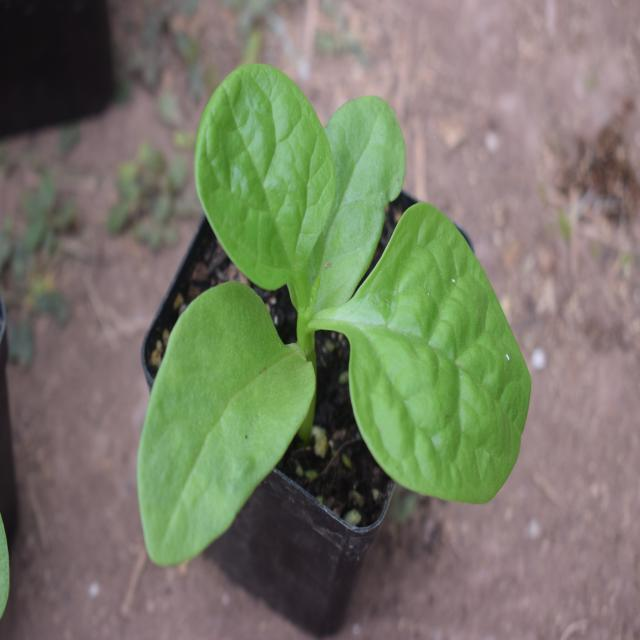Ceylon spinach: (135, 92, 535, 544)
